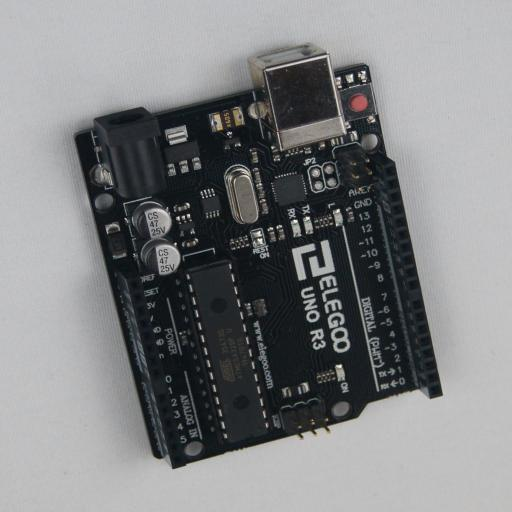Arduino Uno -Black-: (73, 45, 443, 469)
